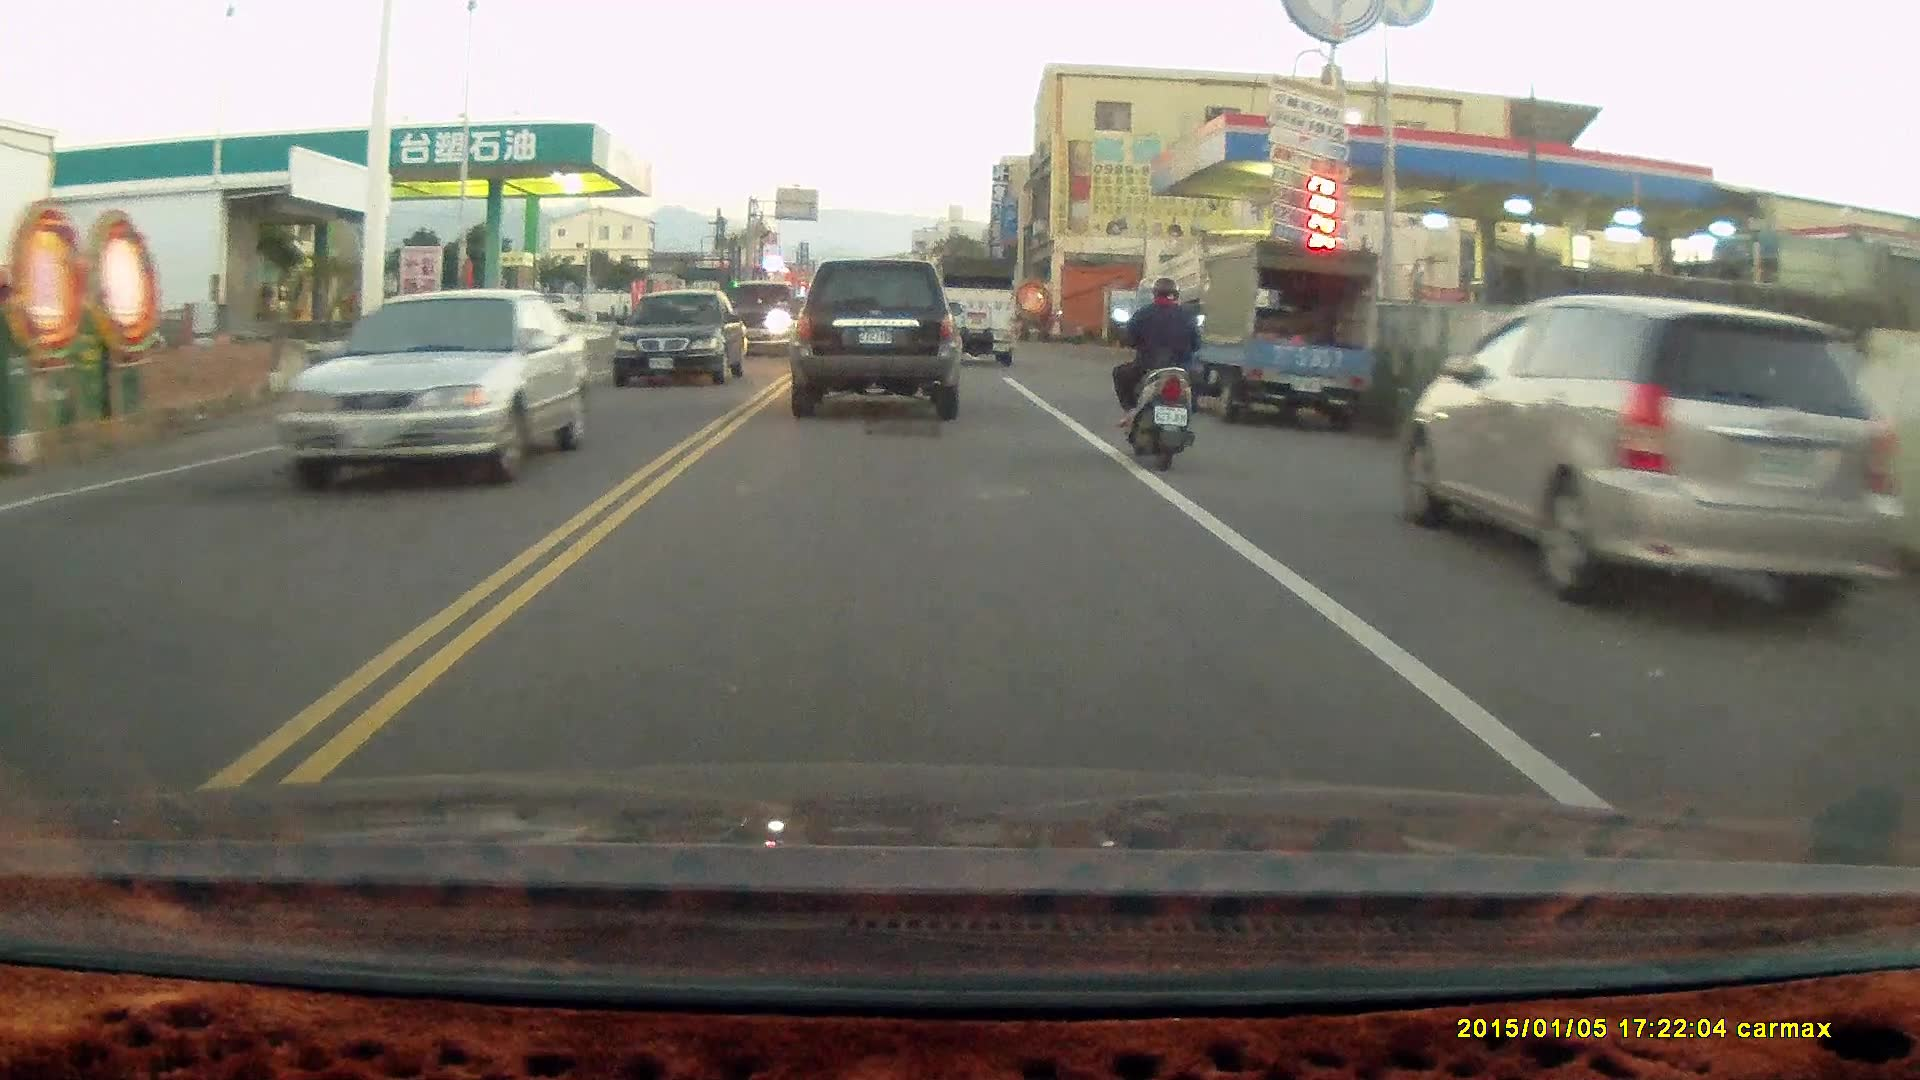rider: (1111, 273, 1212, 470)
vehicle: (1415, 295, 1851, 626), (284, 293, 583, 486), (1179, 244, 1379, 431), (787, 260, 961, 422), (612, 293, 748, 388), (935, 253, 1017, 366)
